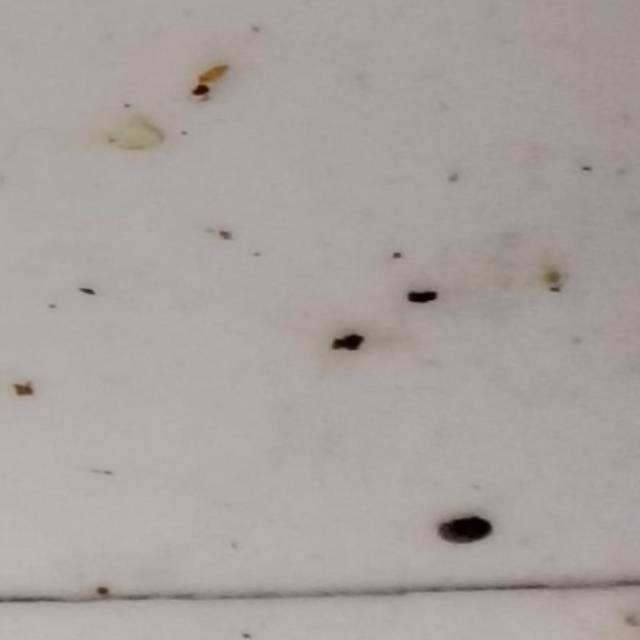varroa: (435, 519, 491, 547)
